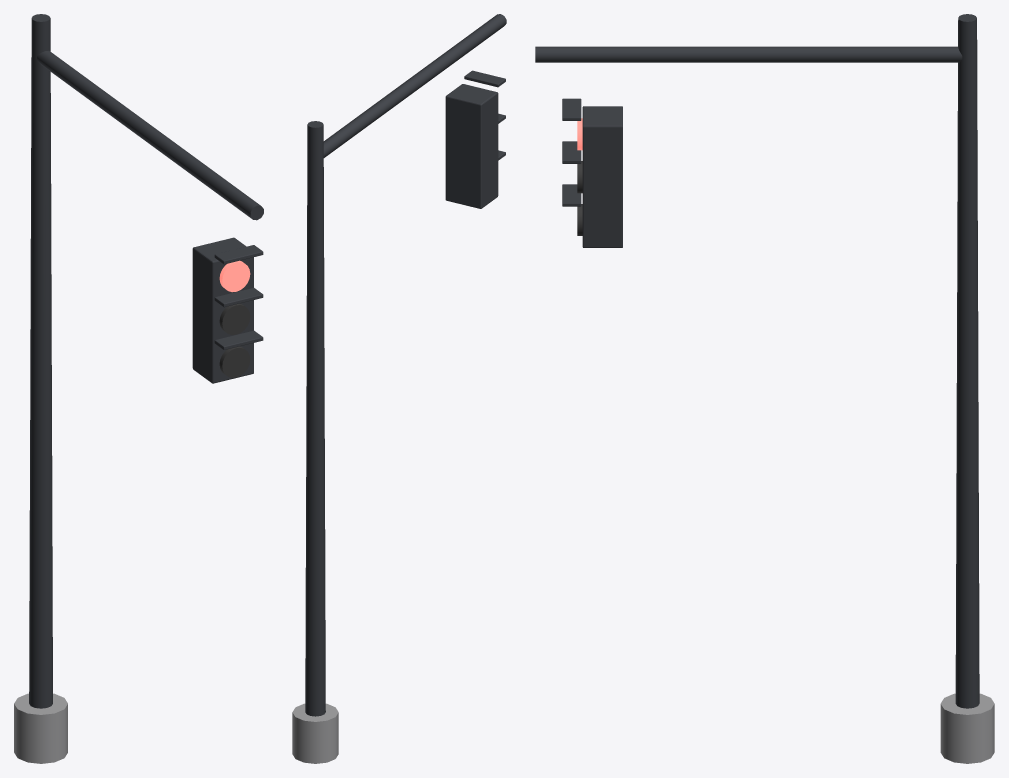
File: prop_traffic_light.glb
The picture shows the model from 3 angles, left to right: view 1: azimuth 30°, elevation 25°; view 2: azimuth 150°, elevation 25°; view 3: azimuth 270°, elevation 25°; orthographic projection. The views are drawn at different scales.
Visible parts, largest first — view 1: signal_mast, signal_head, signal_visors, signal_lens_amber, signal_lens_green, signal_lens_red; view 2: signal_mast, signal_head, signal_visors; view 3: signal_mast, signal_head, signal_visors.
Boxes of the visible parts, bbox=[...] form: signal_mast: bbox=[14, 14, 263, 763]; signal_head: bbox=[192, 237, 253, 383]; signal_visors: bbox=[214, 245, 263, 349]; signal_lens_amber: bbox=[219, 303, 250, 334]; signal_lens_green: bbox=[219, 346, 250, 377]; signal_lens_red: bbox=[219, 260, 250, 292]; signal_mast: bbox=[292, 14, 506, 763]; signal_head: bbox=[445, 84, 498, 208]; signal_visors: bbox=[464, 70, 505, 160]; signal_mast: bbox=[535, 14, 994, 763]; signal_head: bbox=[582, 106, 622, 247]; signal_visors: bbox=[562, 98, 581, 206].
Size of the model in its own units: 0.4 by 6 by 3.4.
